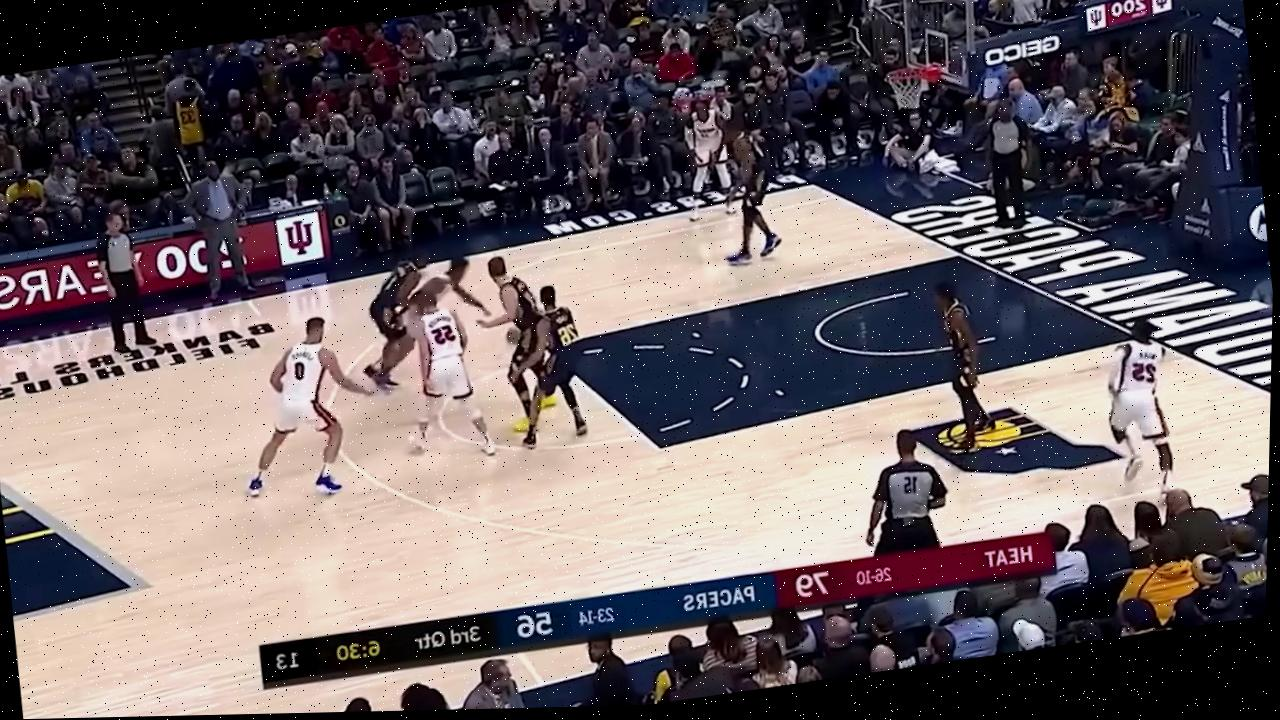no_foul: (464, 234, 620, 474)
